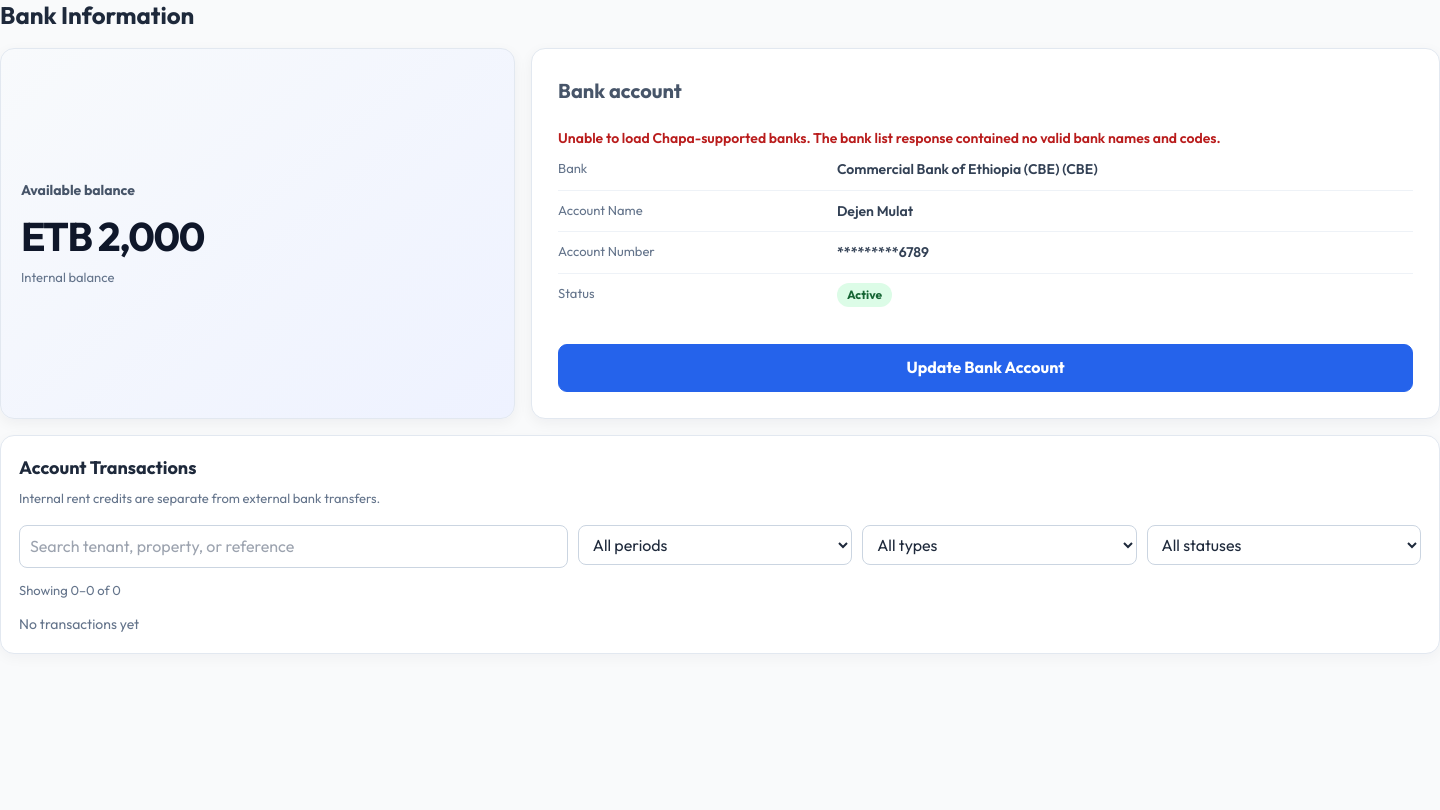
Scenario: shows a clear error when the bank API success payload contains no valid banks
Click the button "Update Bank Account" at (986, 368), box [558,344,1413,392]
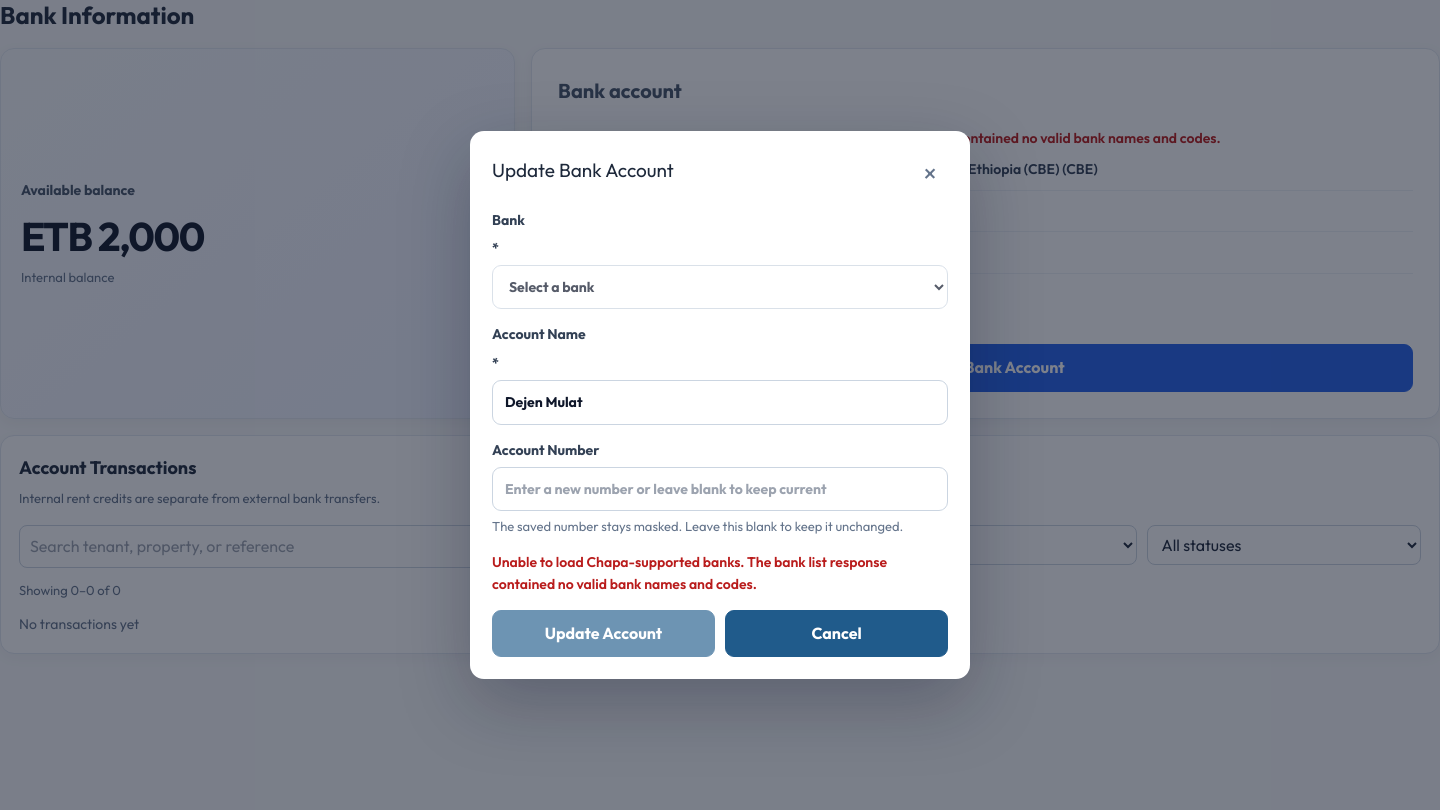
expect the message shows "Unable to load Chapa-supported banks. The bank list response contained no valid bank names and codes.": met, box [492,553,887,593]
expect the dropdown with id "update-landlord-bank" is disabled: met, box [492,266,948,310]
expect the button "Update Account" is disabled: met, box [492,610,715,657]
